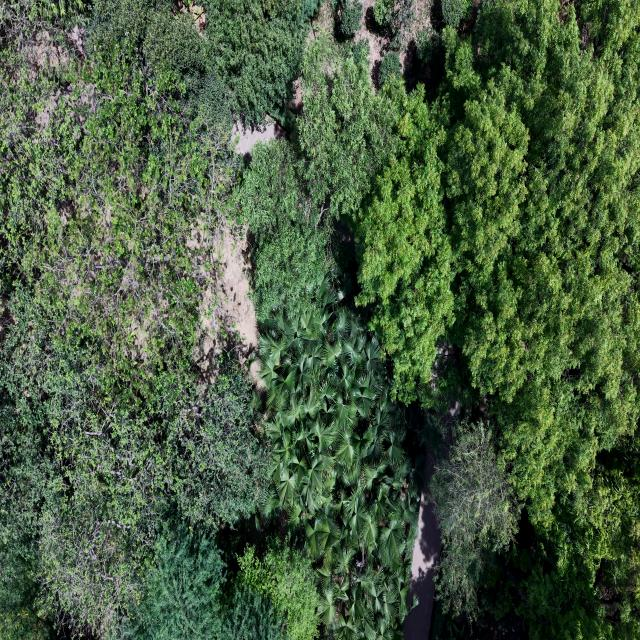DRY_AREA: (199, 224, 258, 373), (404, 487, 441, 639), (404, 489, 441, 639), (404, 490, 441, 639), (220, 228, 258, 356), (220, 229, 258, 355)
VEGETATION_TREE: (0, 0, 639, 639), (0, 2, 270, 627), (434, 1, 639, 634), (414, 1, 639, 558), (433, 1, 638, 523), (260, 279, 422, 639), (235, 33, 395, 319), (354, 83, 454, 400), (483, 439, 639, 637), (88, 0, 318, 130), (107, 515, 318, 639), (298, 33, 396, 214), (430, 419, 519, 615), (237, 138, 332, 320), (169, 355, 271, 524), (506, 538, 639, 639), (123, 519, 226, 639), (238, 536, 318, 639), (366, 0, 438, 89), (216, 580, 285, 639), (0, 596, 55, 639), (373, 50, 401, 86), (442, 0, 471, 27), (340, 0, 362, 34), (374, 0, 395, 23)
